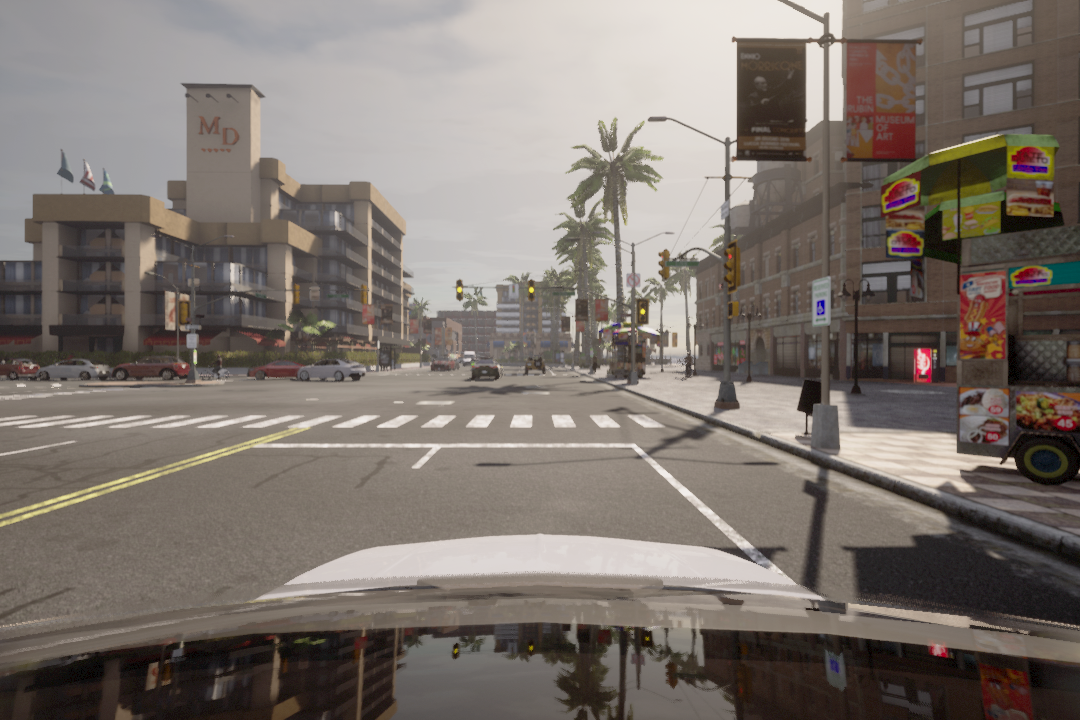TrafficLight: (724, 244, 741, 292), (657, 247, 671, 282), (634, 297, 649, 324), (452, 277, 464, 303), (527, 275, 536, 298)
TrafficSign: (624, 272, 645, 287)
walkside: (4, 409, 685, 433)
